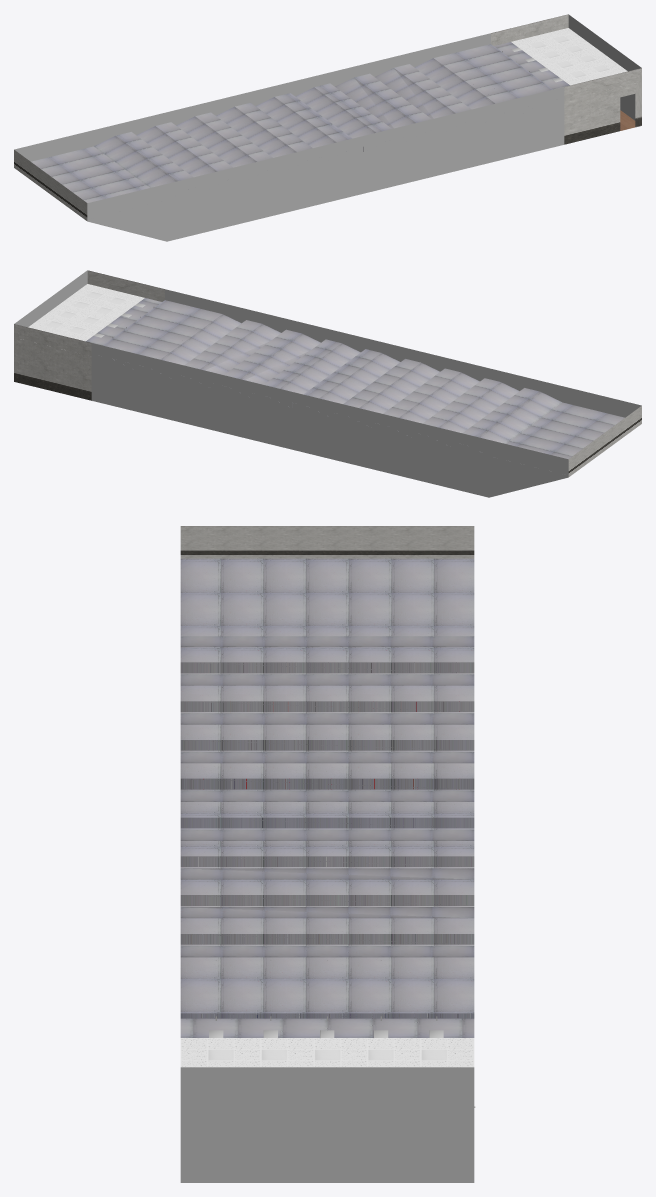
Rendered from ShootingRange02.FBX.
3 renders of one model, top to bottom at view 1: azimuth 30°, elevation 25°; view 2: azimuth 150°, elevation 25°; view 3: azimuth 270°, elevation 25°, orthographic. The views are drawn at different scales.
Visible parts, largest first — view 1: Tirroom; view 2: Tirroom; view 3: Tirroom.
Boxes of the visible parts, bbox=[...] form: Tirroom: bbox=[14, 14, 641, 241]; Tirroom: bbox=[14, 270, 641, 497]; Tirroom: bbox=[180, 526, 475, 1182].
Bounding box in the file's own units: 1374 × 137 × 316.
